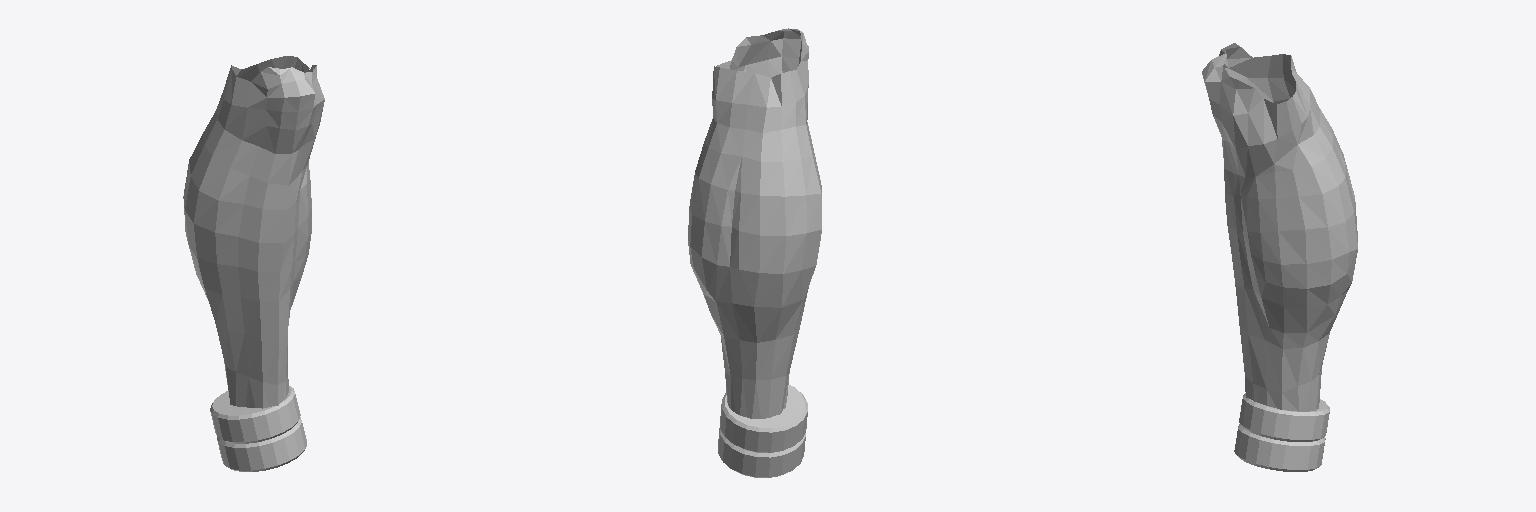
File: BotLegRight.obj
The picture shows the model from 3 angles: view 1: azimuth 30°, elevation 25°; view 2: azimuth 150°, elevation 25°; view 3: azimuth 270°, elevation 25°; orthographic projection.
Size of the model in its own units: 6.36 by 21.71 by 7.41.